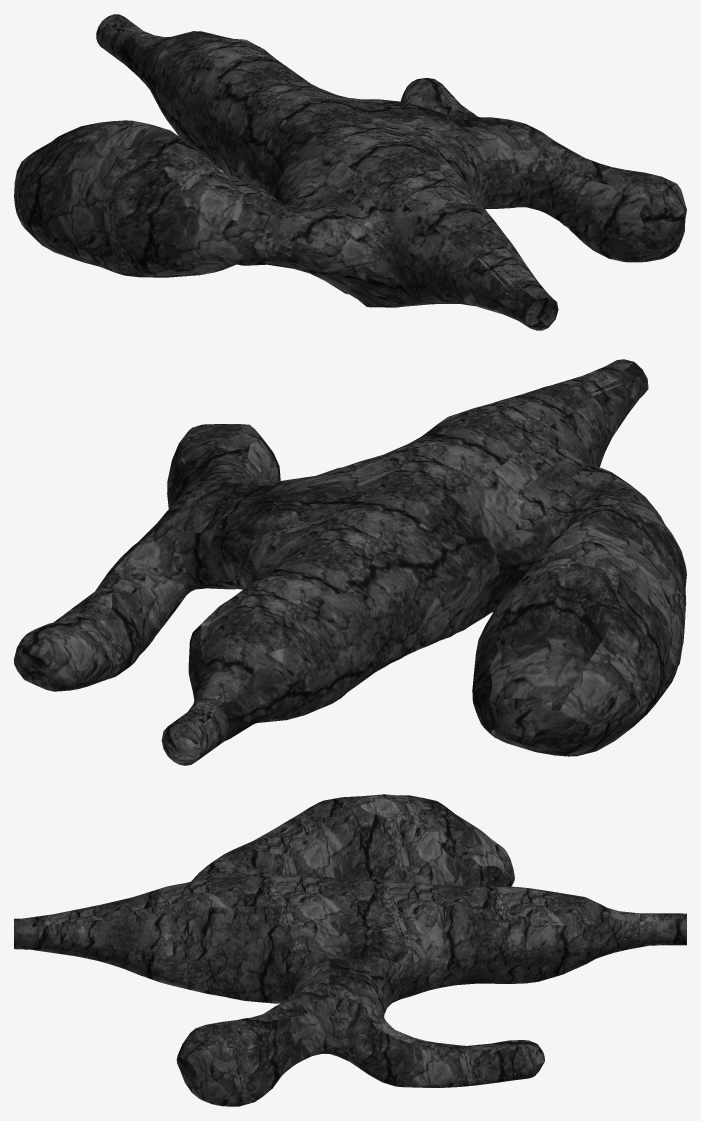
File: Cave_3.fbx
3 views of the same model, one above another, from view 1: azimuth 30°, elevation 25°; view 2: azimuth 150°, elevation 25°; view 3: azimuth 270°, elevation 25° (orthographic). The views are drawn at different scales.
Visible parts, largest first — view 1: Cave_T1; view 2: Cave_T1; view 3: Cave_T1.
Part boxes in pixels (x1,y1,x2,y2): Cave_T1: [14, 14, 686, 330]; Cave_T1: [14, 359, 686, 765]; Cave_T1: [14, 794, 686, 1106].
Size of the model in its own units: 2157 by 679 by 2851.
